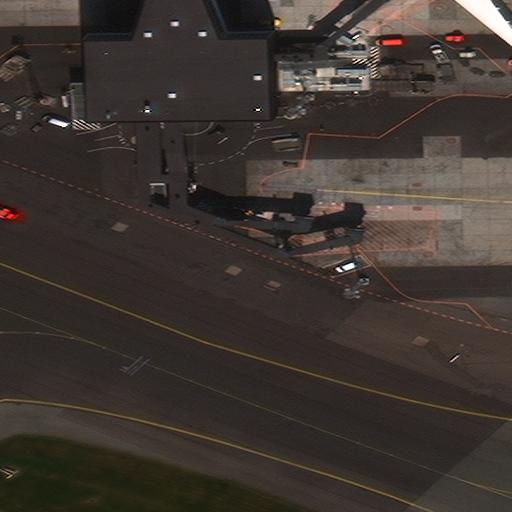Large Civil Transport: (392, 0, 512, 50)
